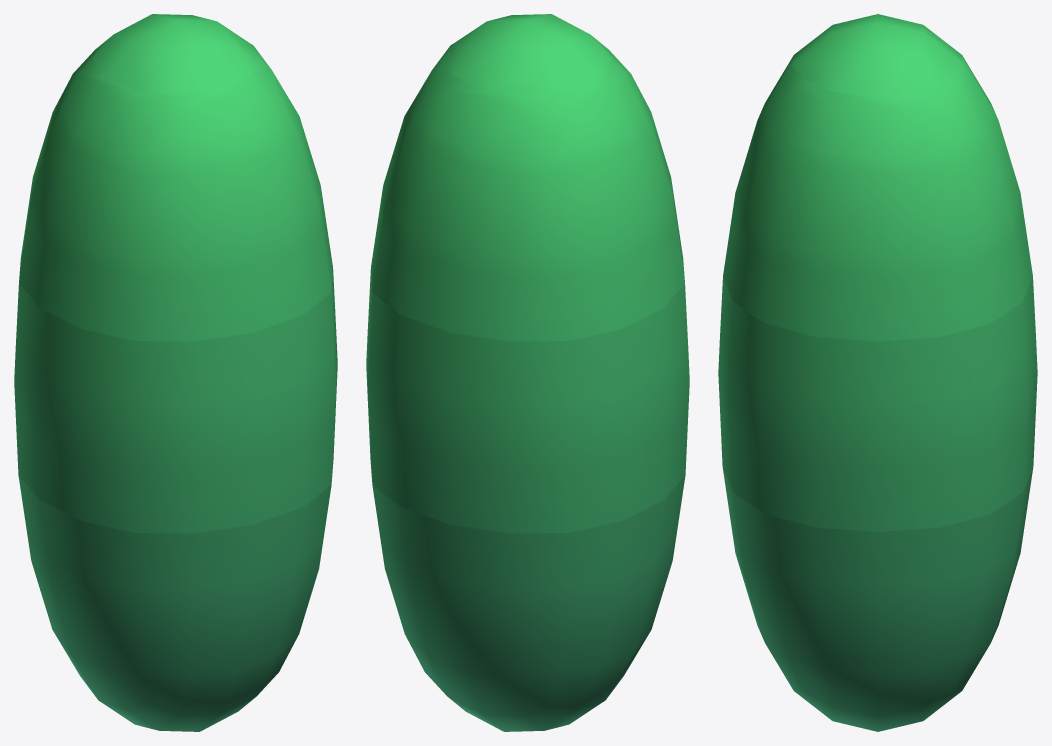
Rendered from TestCapsule.fbx.
3 views of the same model, side by side, from view 1: azimuth 30°, elevation 25°; view 2: azimuth 150°, elevation 25°; view 3: azimuth 270°, elevation 25° (orthographic).
Parts seen in each view (by area): view 1: TestCapsule_10, TestCapsule_07, TestCapsule_06, TestCapsule_05, TestCapsule_08, TestCapsule_04, TestCapsule_03, TestCapsule_09, TestCapsule_02, TestCapsule_01; view 2: TestCapsule_10, TestCapsule_07, TestCapsule_06, TestCapsule_05, TestCapsule_08, TestCapsule_04, TestCapsule_03, TestCapsule_09, TestCapsule_02, TestCapsule_01; view 3: TestCapsule_10, TestCapsule_07, TestCapsule_06, TestCapsule_05, TestCapsule_08, TestCapsule_04, TestCapsule_03, TestCapsule_09, TestCapsule_02, TestCapsule_01.
Boxes of the visible parts, left/top/right/bottom form: TestCapsule_10: left=27, top=533, right=322, bottom=731; TestCapsule_07: left=14, top=333, right=337, bottom=472; TestCapsule_06: left=15, top=269, right=336, bottom=406; TestCapsule_05: left=19, top=200, right=332, bottom=341; TestCapsule_08: left=15, top=399, right=336, bottom=533; TestCapsule_04: left=28, top=148, right=323, bottom=277; TestCapsule_03: left=40, top=96, right=311, bottom=219; TestCapsule_09: left=18, top=475, right=331, bottom=588; TestCapsule_02: left=60, top=43, right=291, bottom=157; TestCapsule_01: left=93, top=14, right=258, bottom=95; TestCapsule_10: left=381, top=533, right=676, bottom=731; TestCapsule_07: left=366, top=333, right=689, bottom=472; TestCapsule_06: left=367, top=269, right=688, bottom=406; TestCapsule_05: left=371, top=200, right=684, bottom=341; TestCapsule_08: left=367, top=399, right=688, bottom=533; TestCapsule_04: left=380, top=148, right=675, bottom=277; TestCapsule_03: left=392, top=96, right=663, bottom=219; TestCapsule_09: left=372, top=475, right=685, bottom=588; TestCapsule_02: left=412, top=43, right=643, bottom=157; TestCapsule_01: left=445, top=14, right=610, bottom=95; TestCapsule_10: left=731, top=525, right=1024, bottom=731; TestCapsule_07: left=718, top=340, right=1037, bottom=470; TestCapsule_06: left=720, top=276, right=1035, bottom=406; TestCapsule_05: left=723, top=217, right=1032, bottom=341; TestCapsule_08: left=719, top=404, right=1036, bottom=531; TestCapsule_04: left=732, top=164, right=1023, bottom=278; TestCapsule_03: left=744, top=92, right=1011, bottom=219; TestCapsule_09: left=722, top=467, right=1033, bottom=586; TestCapsule_02: left=763, top=44, right=992, bottom=158; TestCapsule_01: left=794, top=14, right=961, bottom=97.
Bounding box in the file's own units: 1.63 × 3.95 × 1.63.
